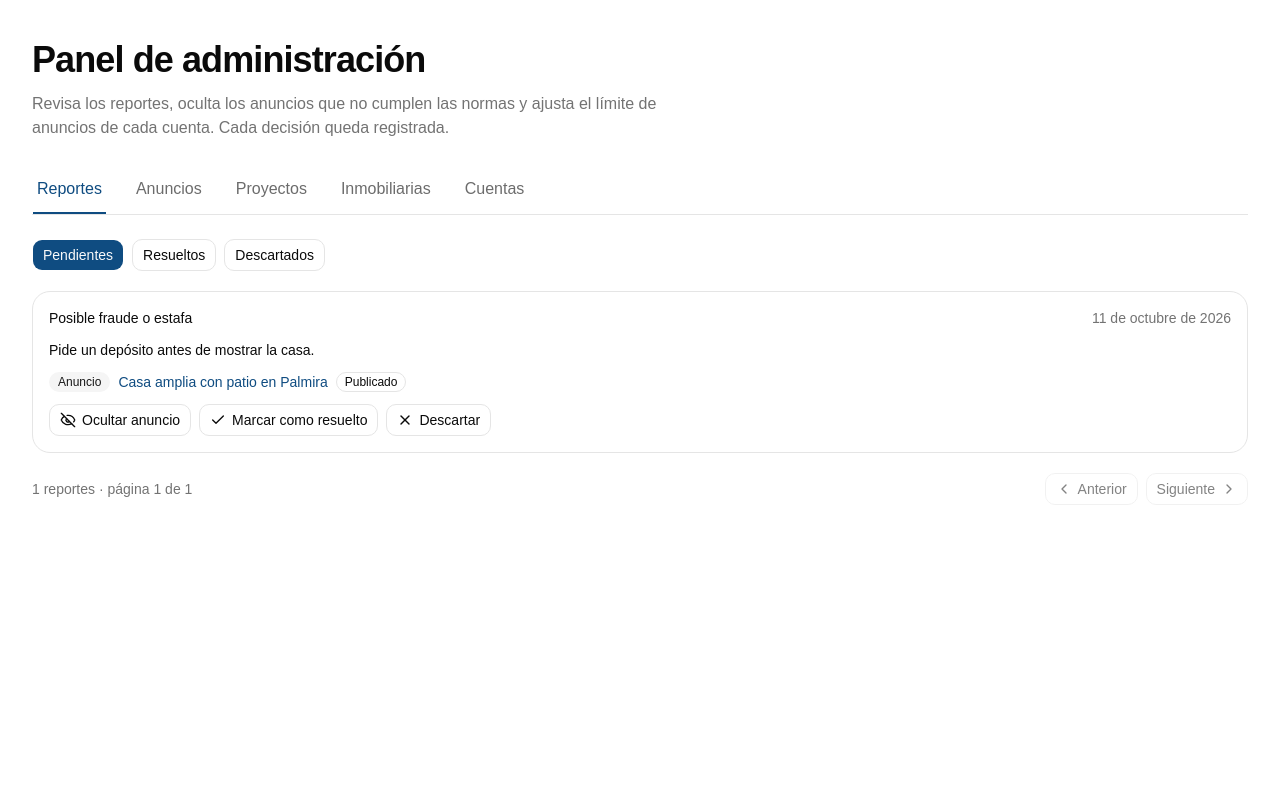
Test: AdminDashboardPage › si la decisión no se pudo guardar, la ventana sigue abierta y lo dice
Click the button "Descartar": (439, 420) [386, 404, 491, 436]
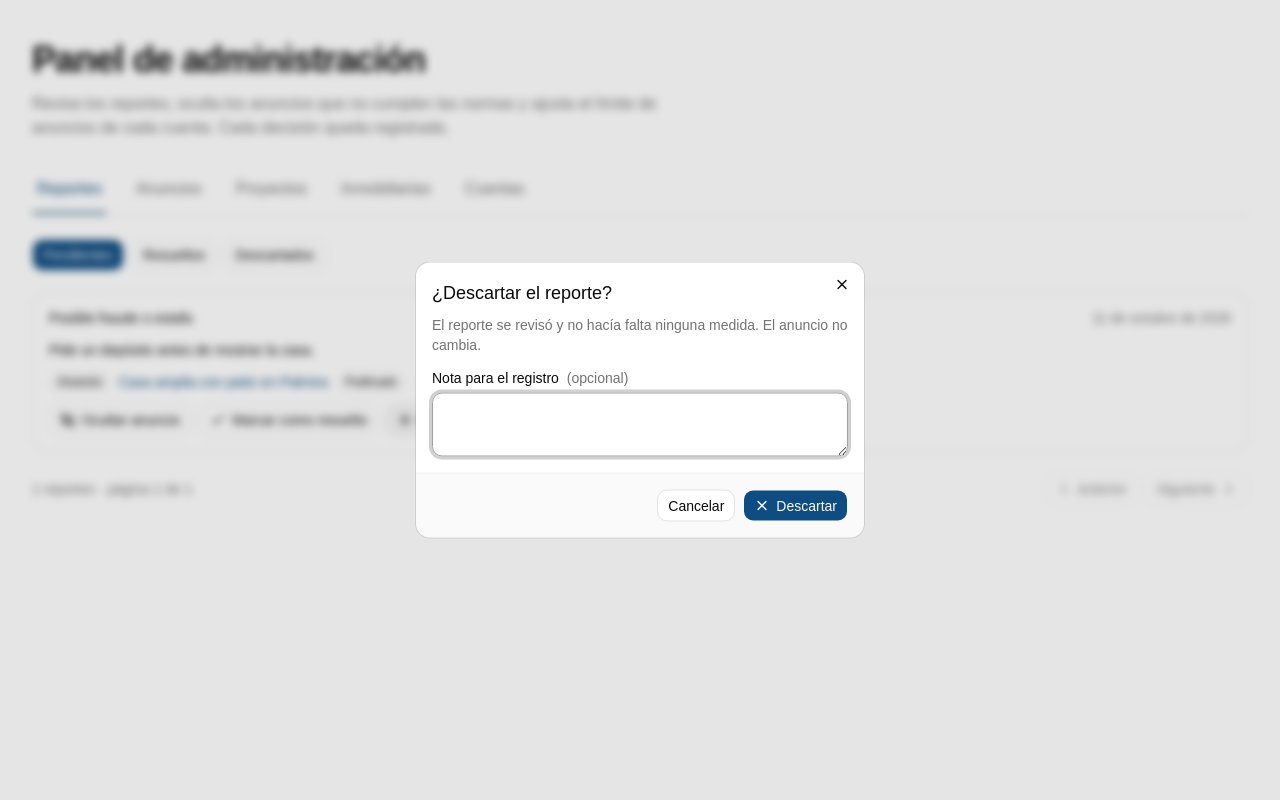
Click the button "Descartar": (796, 506) [743, 490, 848, 522]
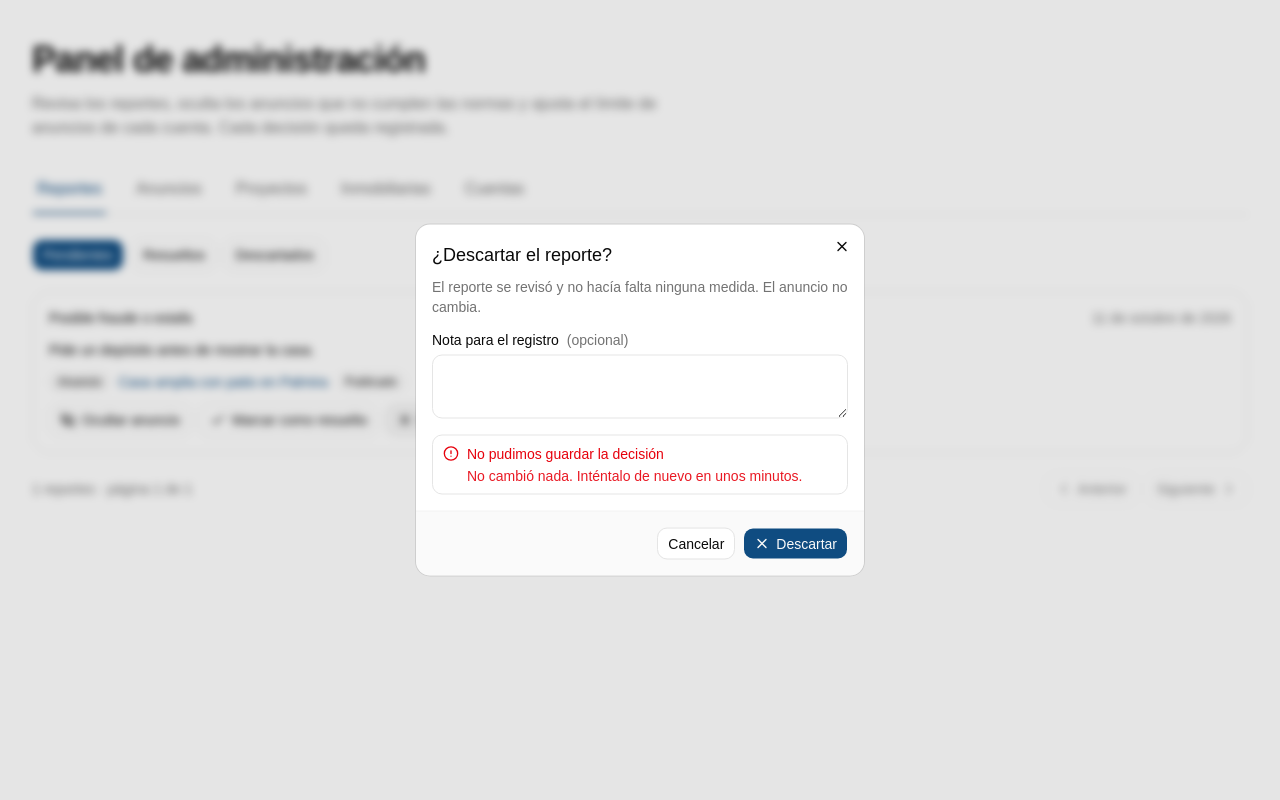
Now the message shows "No pudimos guardar la decisión", box [467, 446, 664, 462]
